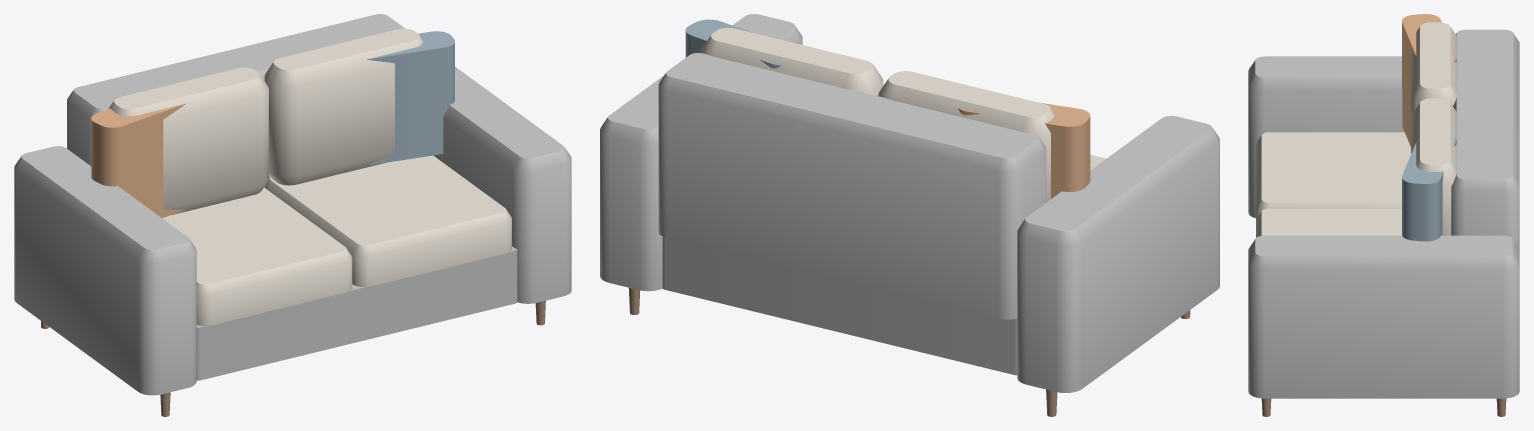
3 renders of one model, left to right at view 1: azimuth 30°, elevation 25°; view 2: azimuth 150°, elevation 25°; view 3: azimuth 270°, elevation 25°, orthographic. The views are drawn at different scales.
Visible parts, largest first — view 1: Sofa văng Chiều dài=1600; view 2: Sofa văng Chiều dài=1600; view 3: Sofa văng Chiều dài=1600.
Boxes of the visible parts, x1,y1,x2,y2 form: Sofa văng Chiều dài=1600: [14, 14, 571, 416]; Sofa văng Chiều dài=1600: [600, 14, 1219, 416]; Sofa văng Chiều dài=1600: [1248, 14, 1519, 416].
Bounding box in the file's own units: 1.62 × 0.85 × 0.9.
